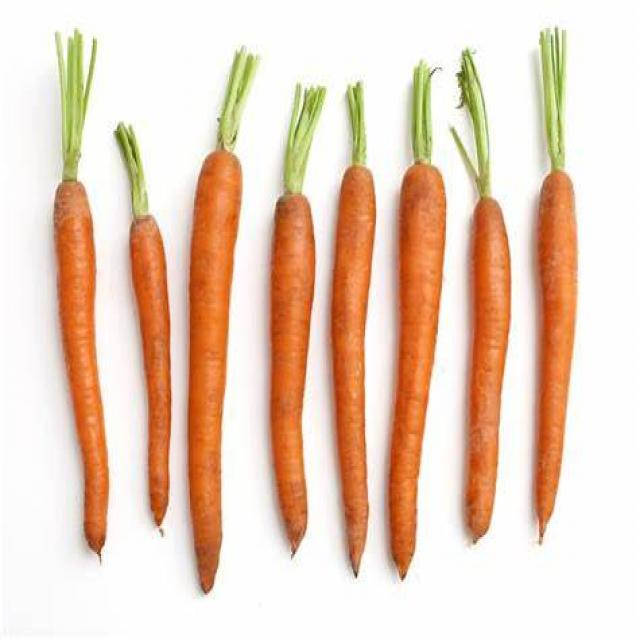Carrot: (45, 180, 118, 562), (187, 147, 242, 583), (388, 163, 443, 578), (332, 166, 376, 574), (269, 192, 318, 548), (124, 217, 176, 526), (468, 199, 513, 553), (538, 173, 580, 551)
